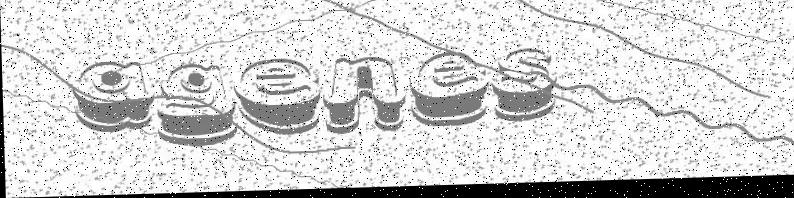a: (70, 60, 155, 134)
e: (232, 59, 323, 138), (407, 55, 488, 129)
g: (155, 63, 238, 148)
n: (321, 58, 407, 136)
s: (487, 50, 556, 125)
